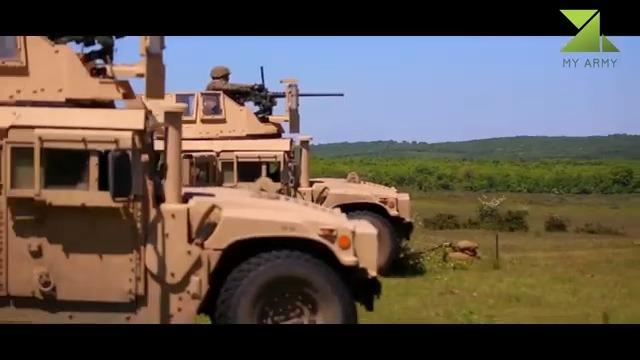MIL_HMMWV: (0, 102, 382, 324), (162, 136, 416, 264), (205, 64, 254, 95)
